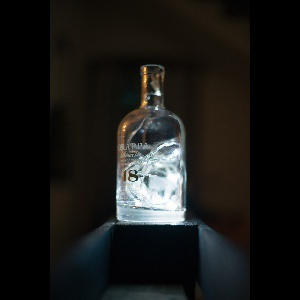emptybottle: (116, 62, 187, 225)
